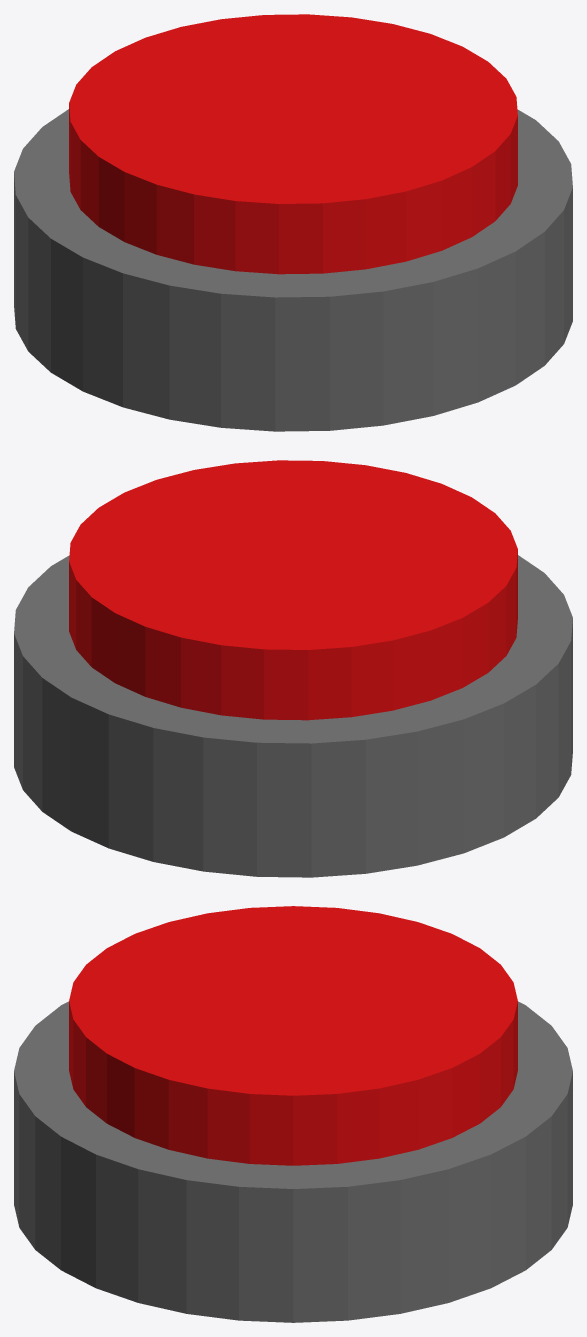
The model's file is button.fbx.
3 views of the same model, one above another, from view 1: azimuth 30°, elevation 25°; view 2: azimuth 150°, elevation 25°; view 3: azimuth 270°, elevation 25° (orthographic).
Parts seen in each view (by area): view 1: Cylinder, Cylinder.001; view 2: Cylinder, Cylinder.001; view 3: Cylinder, Cylinder.001.
Boxes of the visible parts, bbox=[...] form: Cylinder: bbox=[14, 109, 572, 431]; Cylinder.001: bbox=[69, 14, 517, 274]; Cylinder: bbox=[14, 555, 572, 877]; Cylinder.001: bbox=[69, 460, 517, 720]; Cylinder: bbox=[14, 1001, 572, 1322]; Cylinder.001: bbox=[69, 906, 517, 1165].
Bounding box in the file's own units: 249 × 100 × 249.
